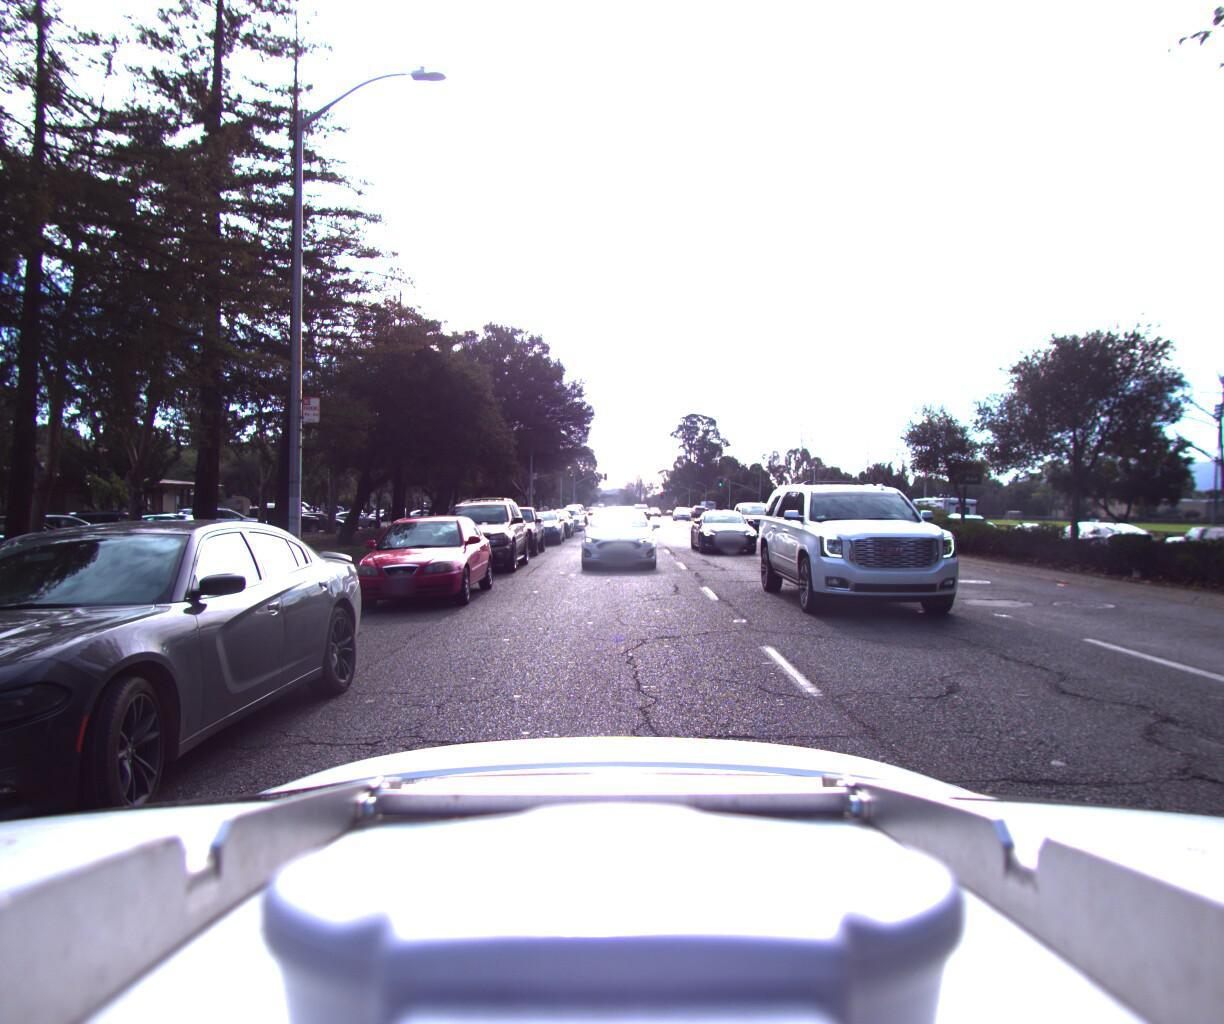car: (0, 500, 384, 951), (761, 457, 1036, 650), (335, 506, 503, 624), (430, 488, 532, 578), (575, 502, 662, 575), (1028, 518, 1144, 568), (1063, 519, 1171, 560), (481, 500, 551, 560), (693, 507, 771, 559), (1149, 517, 1224, 568), (736, 502, 791, 538), (519, 505, 568, 544), (534, 506, 575, 539), (1203, 520, 1224, 581), (551, 504, 585, 531)
other_vehicle: (901, 490, 982, 536)
